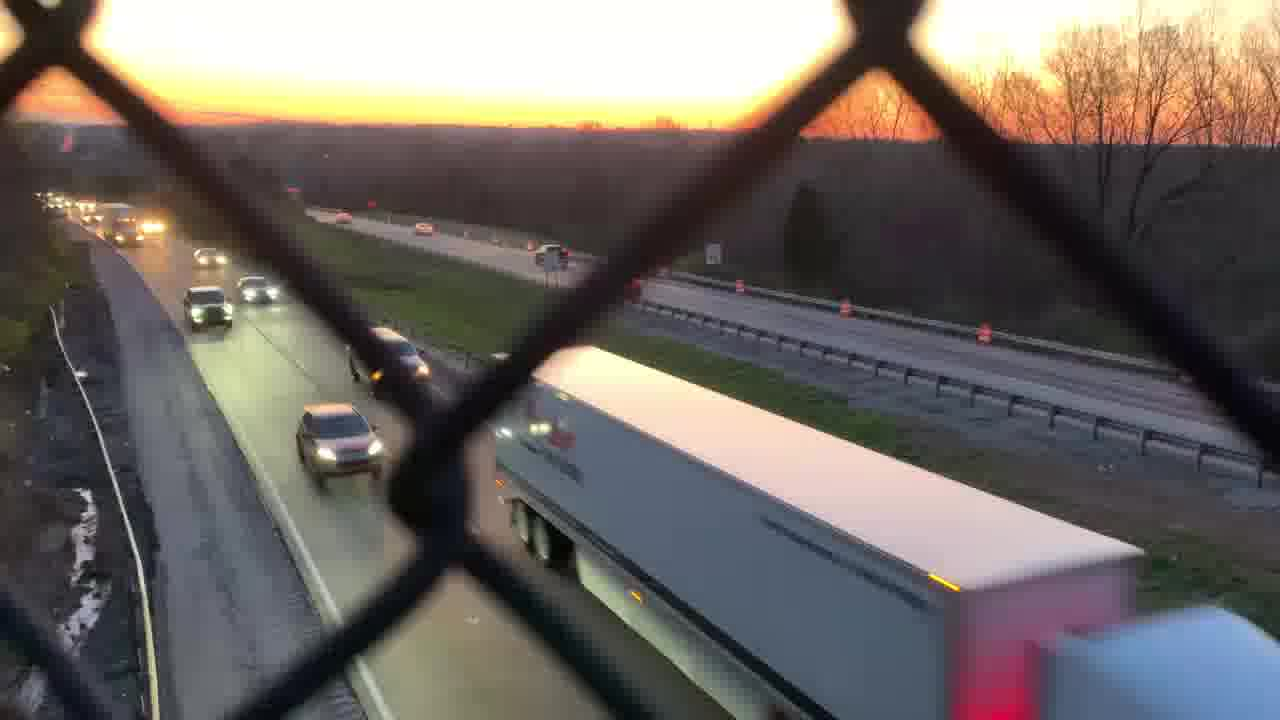heavyTruck: (483, 341, 1280, 720)
largeCar: (293, 398, 381, 475)
